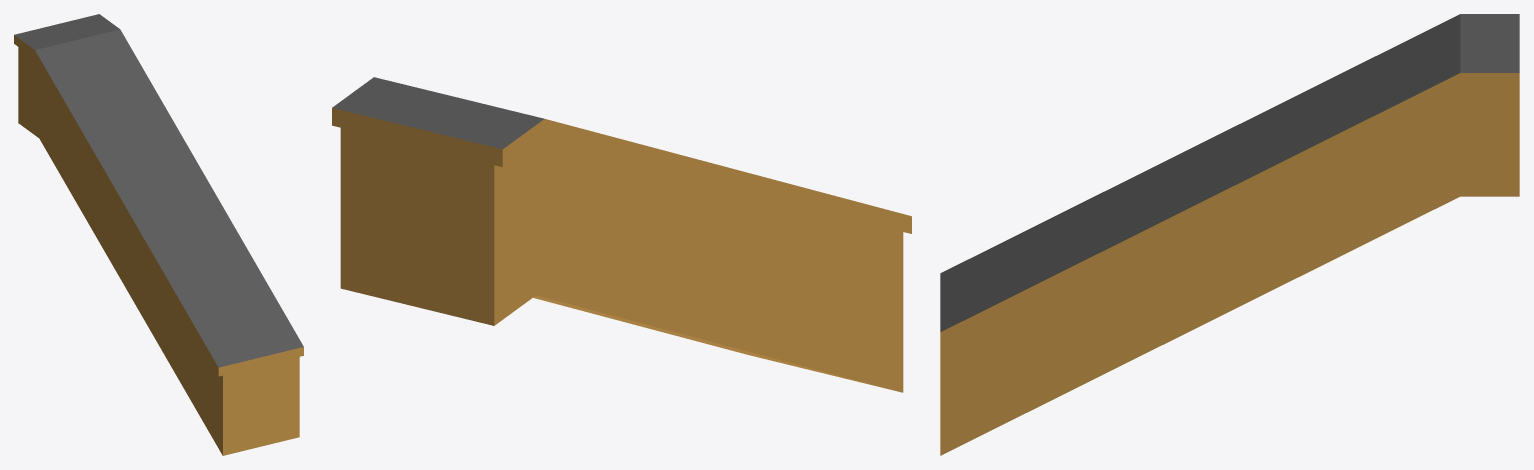
Rendered from Skate_Slide_Rail_Thick_Double_01.FBX.
The picture shows the model from 3 angles, left to right: view 1: azimuth 30°, elevation 25°; view 2: azimuth 150°, elevation 25°; view 3: azimuth 270°, elevation 25°; orthographic projection. The views are drawn at different scales.
Visible parts, largest first — view 1: Skate_Slide_Rail_Thick_Double_01; view 2: Skate_Slide_Rail_Thick_Double_01; view 3: Skate_Slide_Rail_Thick_Double_01.
Boxes of the visible parts, x1=… form: Skate_Slide_Rail_Thick_Double_01: x1=14, y1=14, x2=303, y2=455; Skate_Slide_Rail_Thick_Double_01: x1=332, y1=77, x2=911, y2=392; Skate_Slide_Rail_Thick_Double_01: x1=940, y1=14, x2=1519, y2=455.
Bounding box in the file's own units: 0.7229 × 2.2 × 3.
